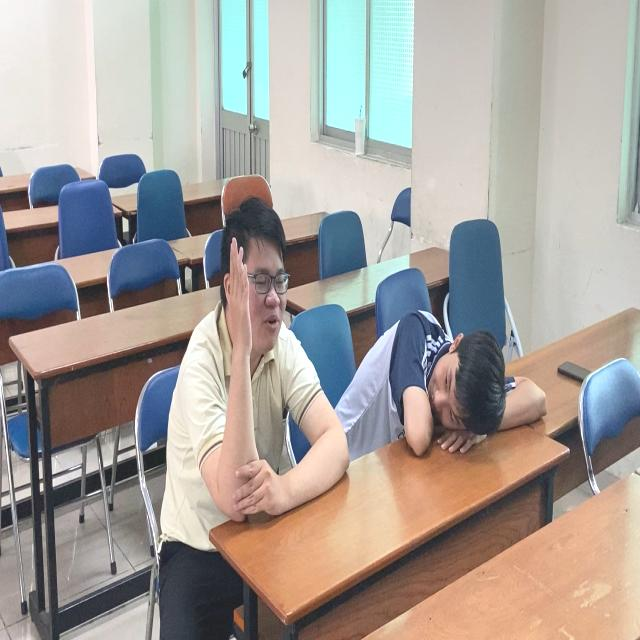raise_hand: (182, 195, 317, 535)
sleep: (360, 306, 558, 469)
